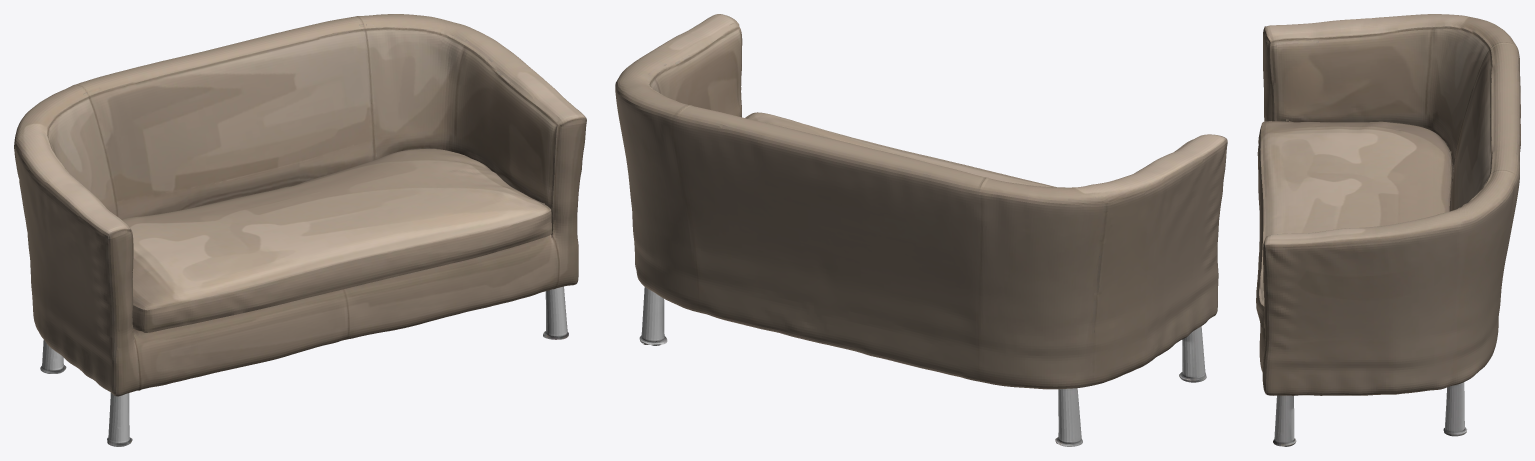
Rendered from couch.glb.
3 renders of one model, left to right at view 1: azimuth 30°, elevation 25°; view 2: azimuth 150°, elevation 25°; view 3: azimuth 270°, elevation 25°, orthographic. The views are drawn at different scales.
Parts seen in each view (by area): view 1: temp; view 2: temp; view 3: temp.
Part boxes in pixels (x1,y1,x2,y2): temp: (14, 14, 586, 446); temp: (615, 14, 1227, 446); temp: (1256, 14, 1520, 446).
Size of the model in its own units: 25.34 by 12.57 by 12.75.
Materials: 1 (1 with a texture image).
